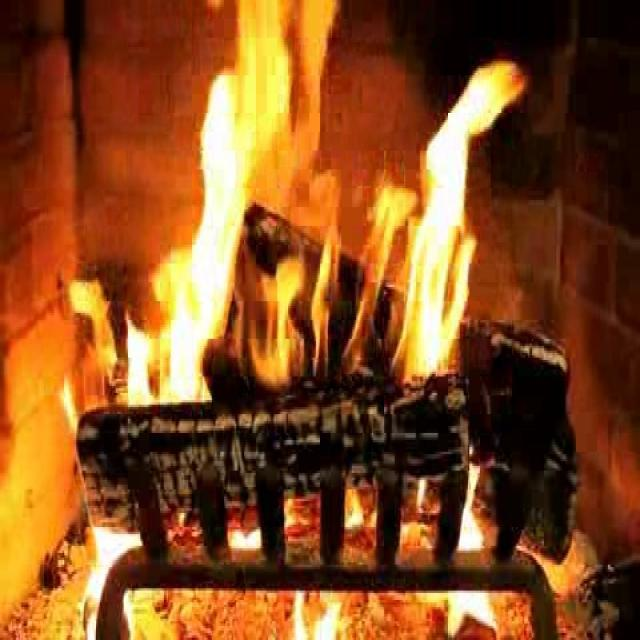Fire: (190, 18, 502, 405)
